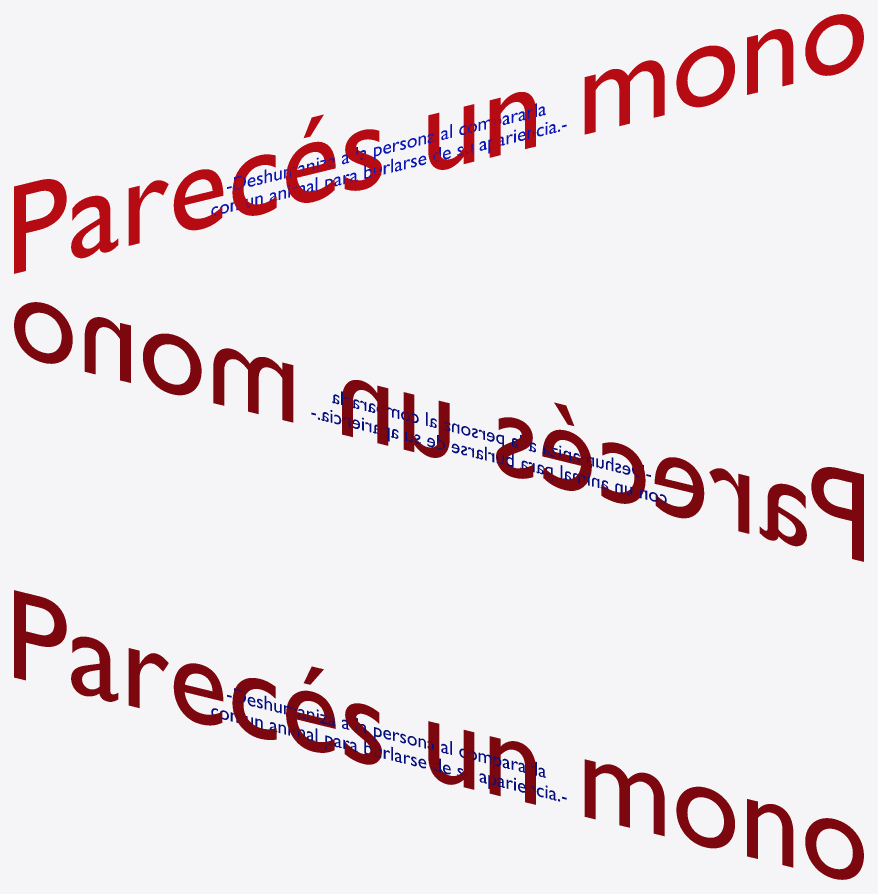
The model's file is palabras2.glb.
3 views of the same model, one above another, from view 1: azimuth 30°, elevation 25°; view 2: azimuth 150°, elevation 25°; view 3: azimuth 330°, elevation 25° (orthographic).
Visible parts, largest first — view 1: INDIO, INDIO.001; view 2: INDIO, INDIO.001; view 3: INDIO, INDIO.001.
Part boxes in pixels (left/top/right/bottom): INDIO: left=14, top=14, right=863, bottom=273; INDIO.001: left=211, top=103, right=566, bottom=215; INDIO: left=14, top=302, right=863, bottom=561; INDIO.001: left=311, top=391, right=666, bottom=503; INDIO: left=14, top=590, right=863, bottom=879; INDIO.001: left=211, top=688, right=566, bottom=801.
Bounding box in the file's own units: 0.9753 × 0.0971 × 3.57e-09.
